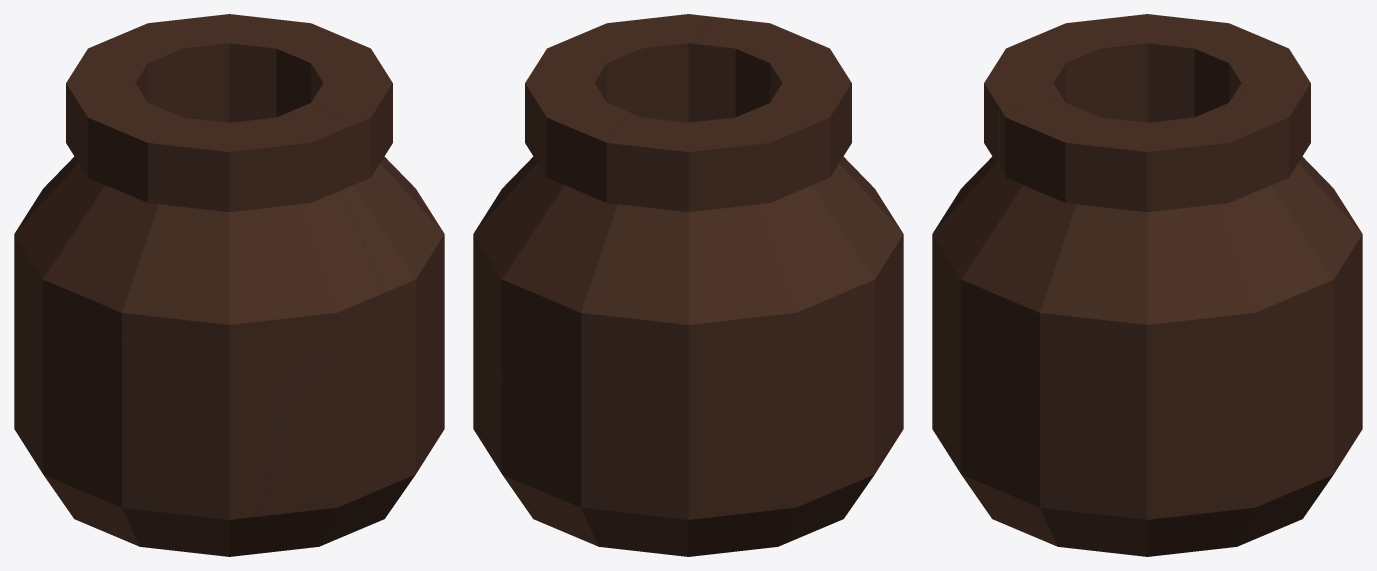
File: pot_small_b.glb
3 renders of one model, left to right at view 1: azimuth 30°, elevation 25°; view 2: azimuth 150°, elevation 25°; view 3: azimuth 270°, elevation 25°, orthographic.
Visible parts, largest first — view 1: Cylinder_cell.004, Cylinder_cell.001, Cylinder_cell.002, Cylinder_cell.003, Cylinder_cell; view 2: Cylinder_cell.004, Cylinder_cell.003, Cylinder_cell.005, Cylinder_cell.001, Cylinder_cell, Cylinder_cell.002; view 3: Cylinder_cell.003, Cylinder_cell.002, Cylinder_cell.004, Cylinder_cell, Cylinder_cell.005.
Boxes of the visible parts, left/top/right/bottom form: Cylinder_cell.004: left=14, top=23, right=385, bottom=389; Cylinder_cell.001: left=14, top=265, right=284, bottom=555; Cylinder_cell.002: left=269, top=238, right=444, bottom=549; Cylinder_cell.003: left=149, top=14, right=444, bottom=292; Cylinder_cell: left=220, top=484, right=289, bottom=556; Cylinder_cell.004: left=588, top=16, right=903, bottom=366; Cylinder_cell.003: left=473, top=14, right=712, bottom=388; Cylinder_cell.005: left=517, top=362, right=742, bottom=556; Cylinder_cell.001: left=733, top=261, right=903, bottom=551; Cylinder_cell: left=483, top=360, right=608, bottom=547; Cylinder_cell.002: left=473, top=312, right=488, bottom=444; Cylinder_cell.003: left=950, top=83, right=1362, bottom=396; Cylinder_cell.002: left=932, top=263, right=1296, bottom=556; Cylinder_cell.004: left=932, top=14, right=1359, bottom=269; Cylinder_cell: left=1245, top=374, right=1351, bottom=543; Cylinder_cell.005: left=1339, top=287, right=1362, bottom=445.
Size of the model in its own units: 6.15 by 6.7 by 6.15.
